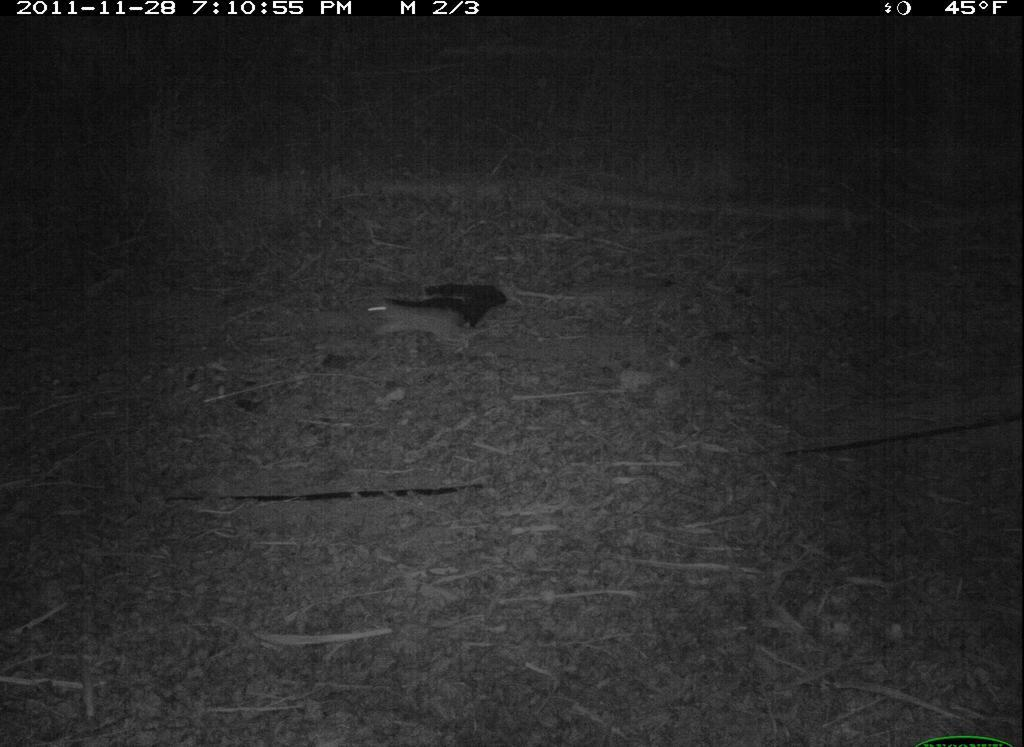rabbit: (369, 274, 505, 361)
